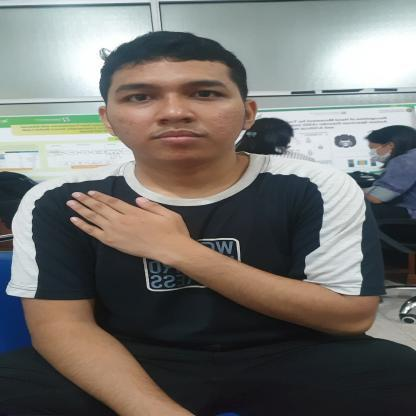Saya: (53, 189, 197, 264)
